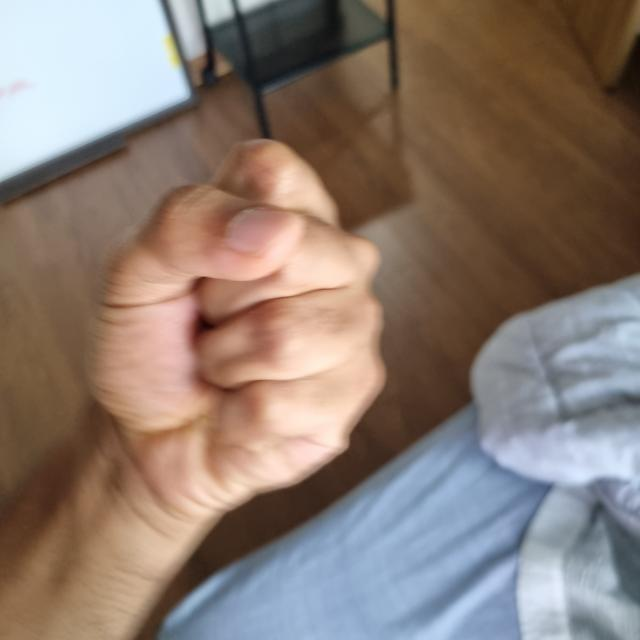Rock: (106, 144, 387, 491)
